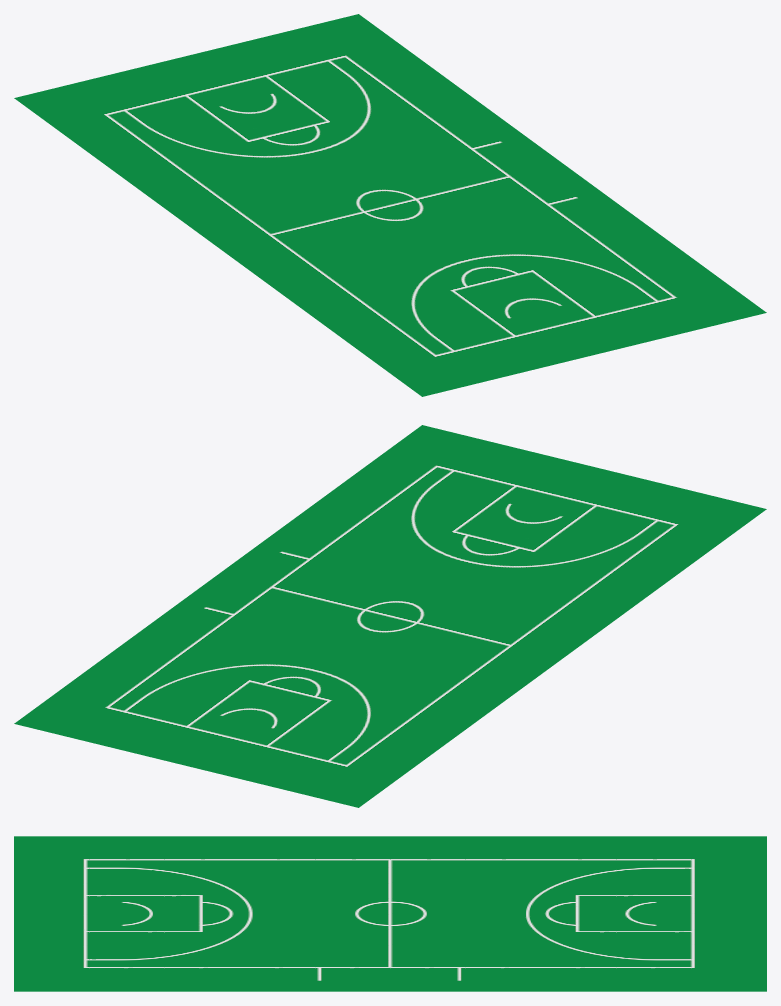
The model's file is field_5.fbx.
3 renders of one model, top to bottom at view 1: azimuth 30°, elevation 25°; view 2: azimuth 150°, elevation 25°; view 3: azimuth 270°, elevation 25°, orthographic. The views are drawn at different scales.
Visible parts, largest first — view 1: Field_05; view 2: Field_05; view 3: Field_05.
Part boxes in pixels (x1=…): Field_05: x1=14, y1=14, x2=766, y2=396; Field_05: x1=14, y1=425, x2=766, y2=807; Field_05: x1=14, y1=836, x2=766, y2=991.
Bounding box in the file's own units: 1.29 × 0 × 2.64.
Materials: 1 (1 with a texture image).
